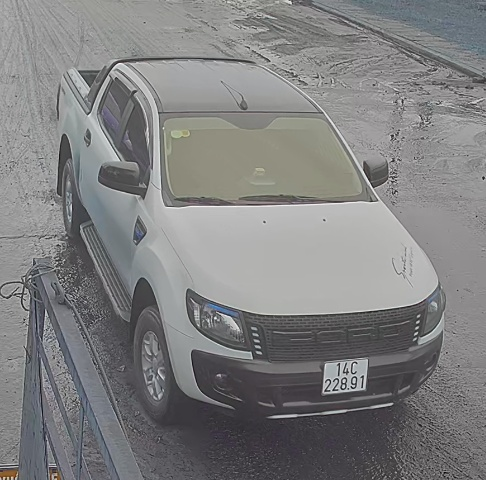vehicle plate: (321, 355, 371, 395)
